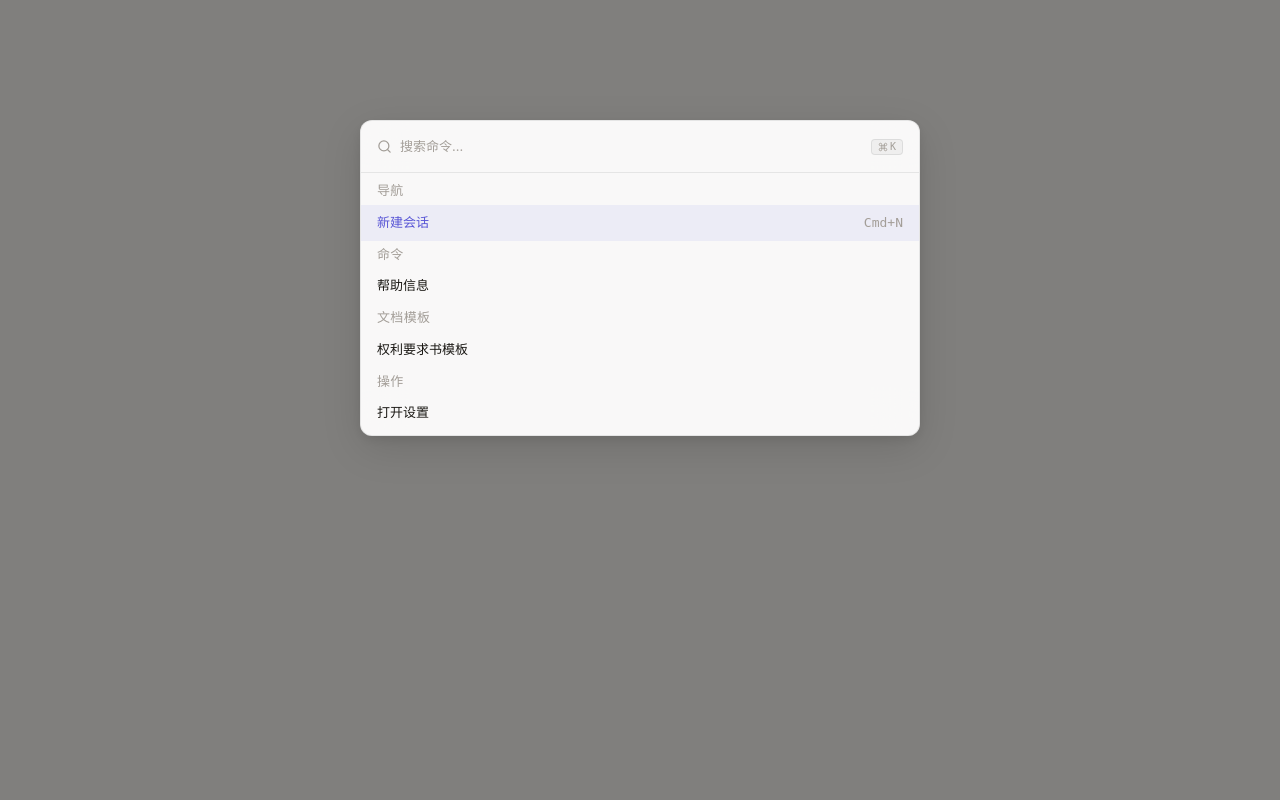
Test case: CommandPalette › filters by query
In the field: (632,147) [400,137,863,156], type "设置"
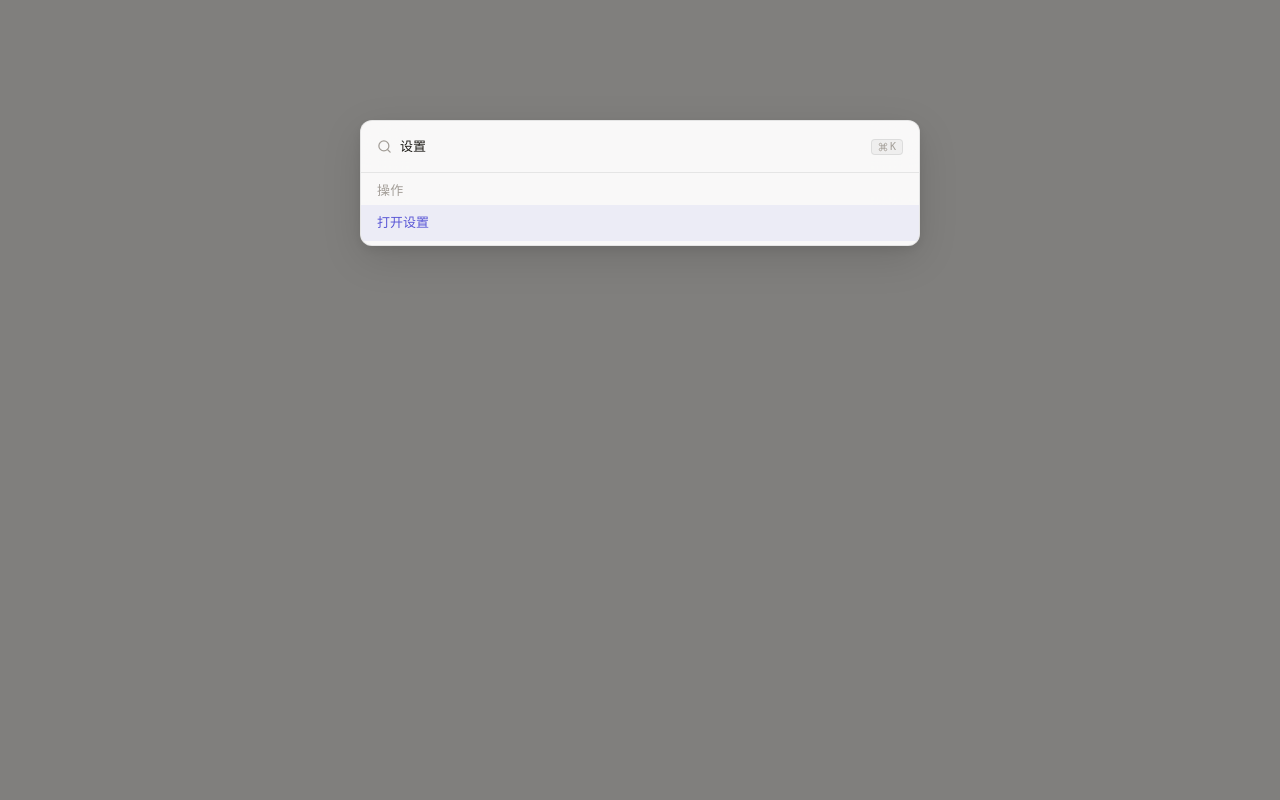
Expected: no buttons "新建会话" are shown
